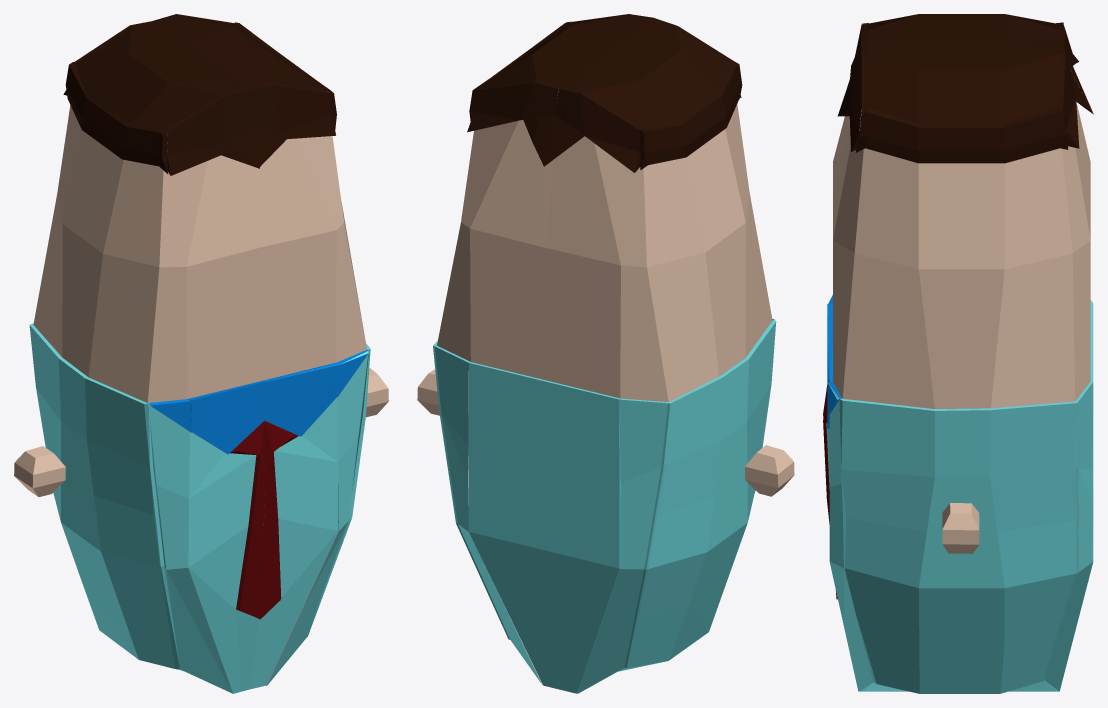
File: BossFinal.fbx
3 renders of one model, left to right at view 1: azimuth 30°, elevation 25°; view 2: azimuth 150°, elevation 25°; view 3: azimuth 270°, elevation 25°, orthographic. The views are drawn at different scales.
Parts seen in each view (by area): view 1: Cube; view 2: Cube; view 3: Cube.
Boxes of the visible parts, x1=… form: Cube: x1=14, y1=14, x2=388, y2=693; Cube: x1=417, y1=14, x2=794, y2=693; Cube: x1=823, y1=14, x2=1093, y2=693.
Bounding box in the file's own units: 111 × 178 × 68.11.
